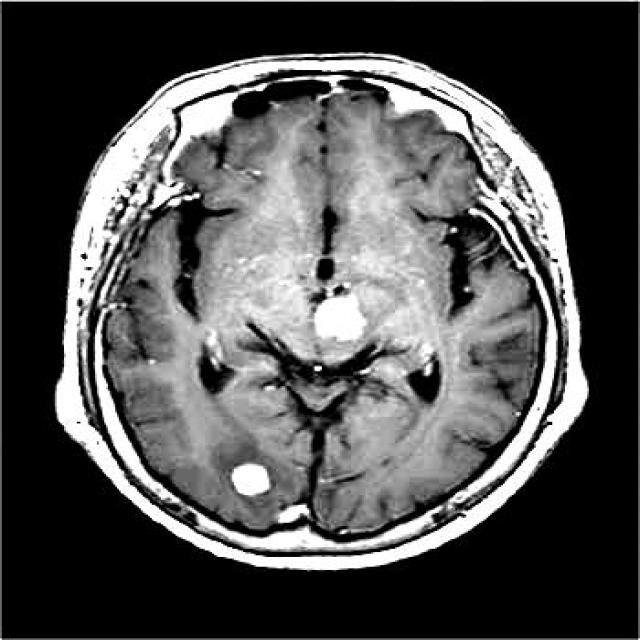notumor: (57, 54, 587, 570)
